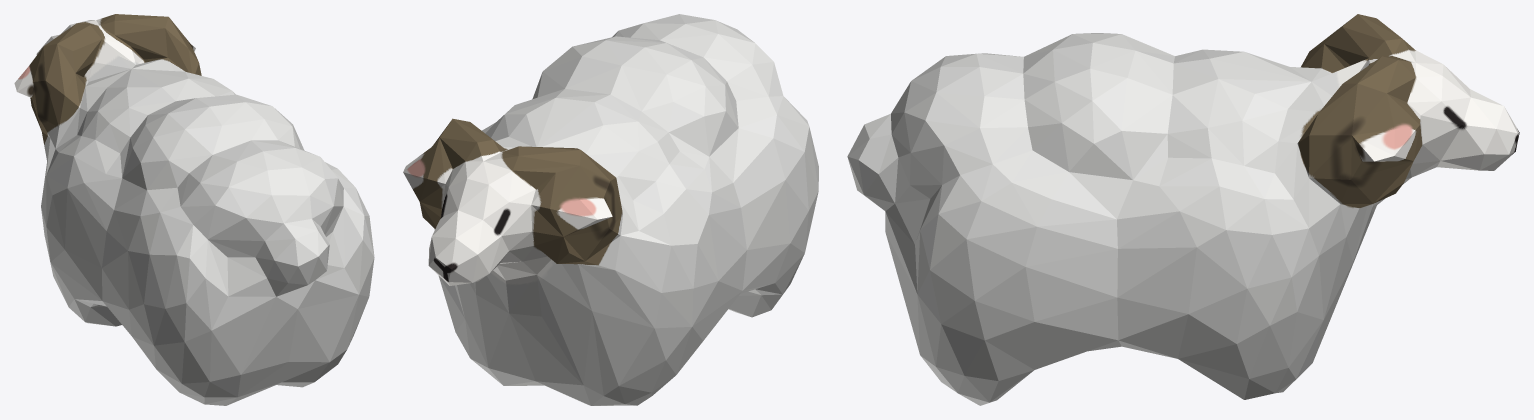
Rendered from animal_sheep_ram_blob.obj.
3 views of the same model, side by side, from view 1: azimuth 30°, elevation 25°; view 2: azimuth 150°, elevation 25°; view 3: azimuth 270°, elevation 25° (orthographic). The views are drawn at different scales.
Parts seen in each view (by area): view 1: animal_sheep_ram_blob; view 2: animal_sheep_ram_blob; view 3: animal_sheep_ram_blob.
Boxes of the visible parts, box(x1,y1,x2,y2) form: animal_sheep_ram_blob: box(14, 14, 374, 405); animal_sheep_ram_blob: box(403, 14, 818, 405); animal_sheep_ram_blob: box(847, 14, 1519, 405).
Bounding box in the file's own units: 0.6309 × 0.6966 × 1.29.
